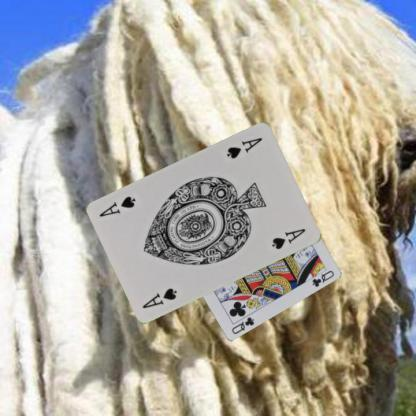As: (139, 284, 179, 310), (223, 135, 264, 160)
Qc: (228, 314, 256, 335)
